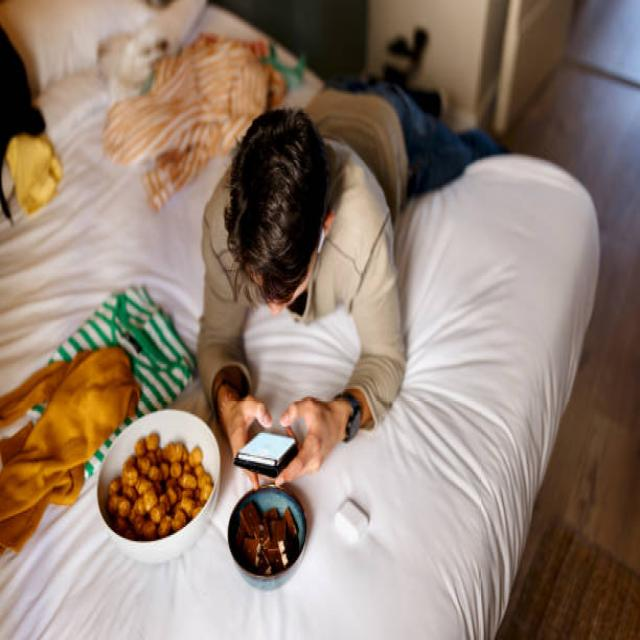airpods: (317, 228, 325, 254)
